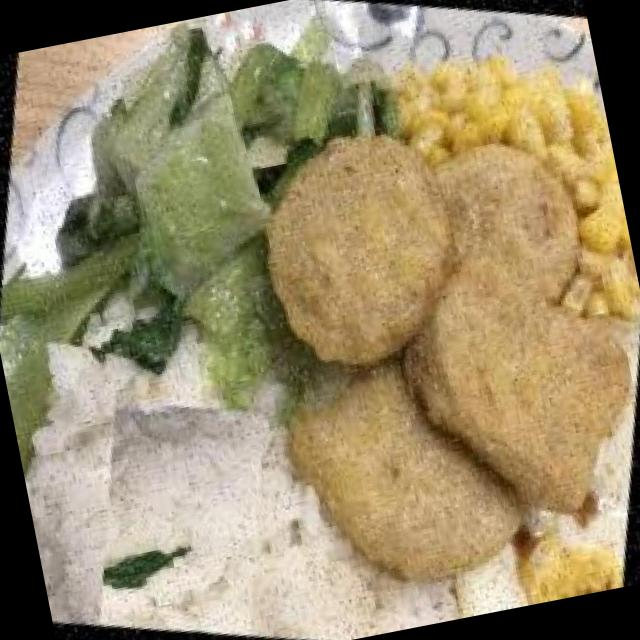chicken_nuggets: (167, 69, 640, 640)
rice: (28, 395, 334, 640)
